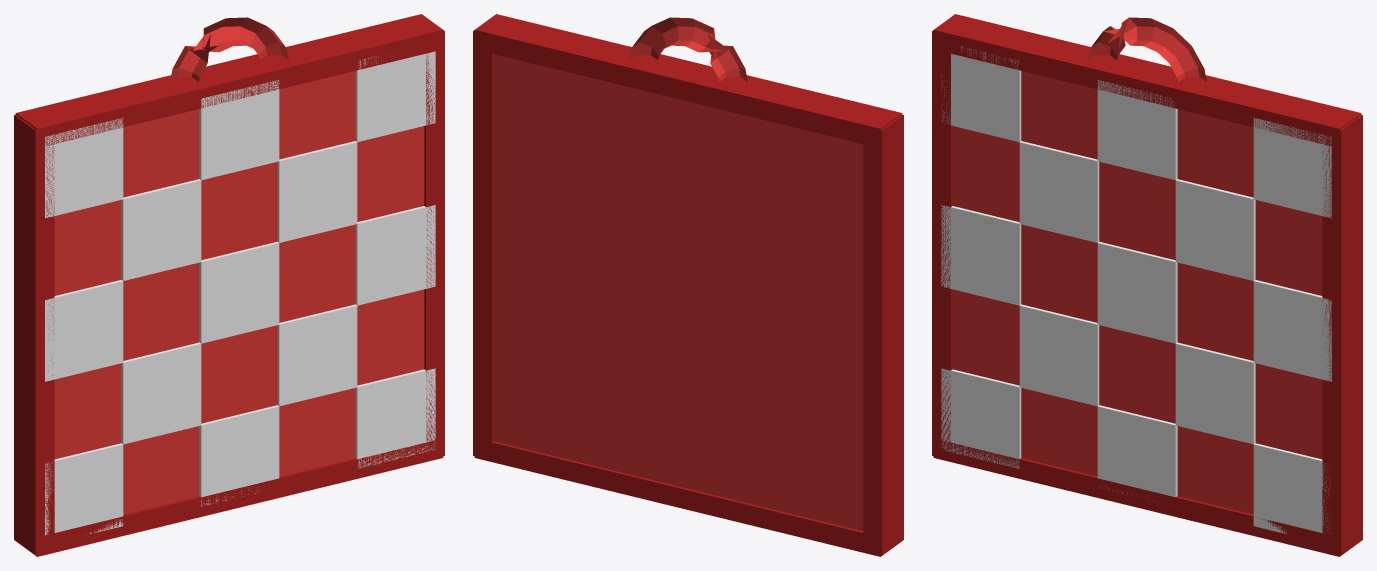
Rendered from grytlapp.glb.
The picture shows the model from 3 angles, left to right: view 1: azimuth 30°, elevation 25°; view 2: azimuth 150°, elevation 25°; view 3: azimuth 330°, elevation 25°; orthographic projection.
Visible parts, largest first — view 1: grytlapp; view 2: grytlapp; view 3: grytlapp.
Boxes of the visible parts, <box> form: grytlapp: <box>14,14,444,556</box>; grytlapp: <box>473,14,903,556</box>; grytlapp: <box>932,14,1362,556</box>.
Size of the model in its own units: 0.262 by 0.2929 by 0.024.
